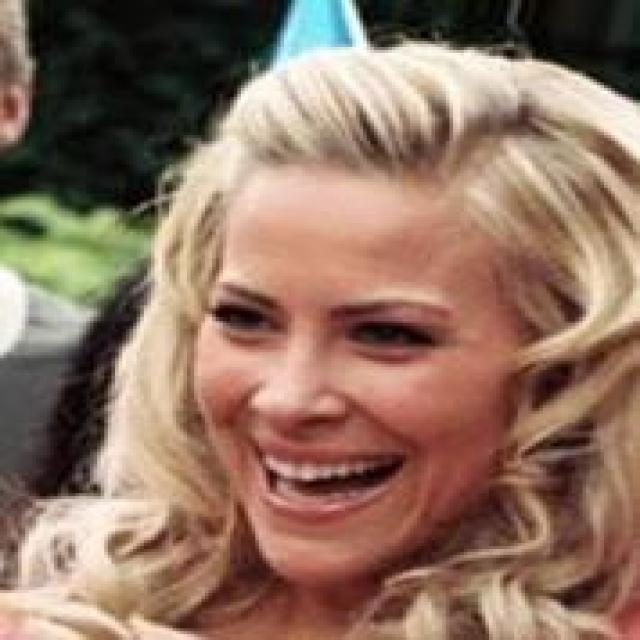nomask: (93, 106, 536, 566)
